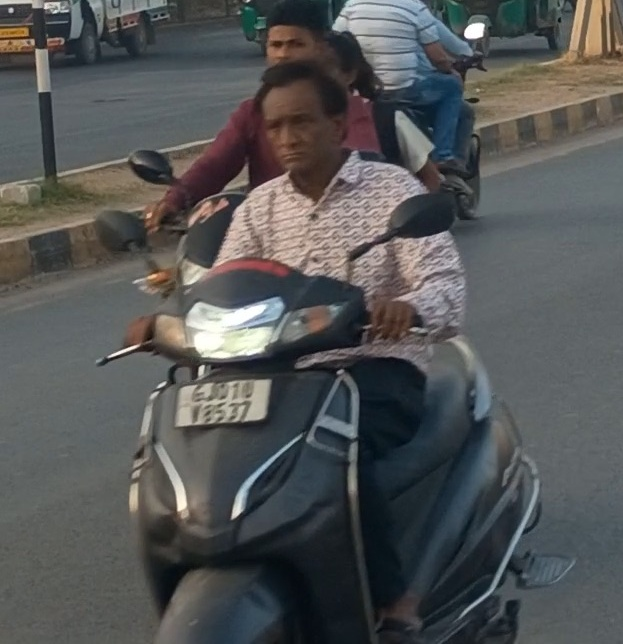BikeWithRider: (82, 0, 584, 644), (324, 0, 499, 233)
NoHelmet: (244, 58, 359, 184), (250, 0, 340, 81)
